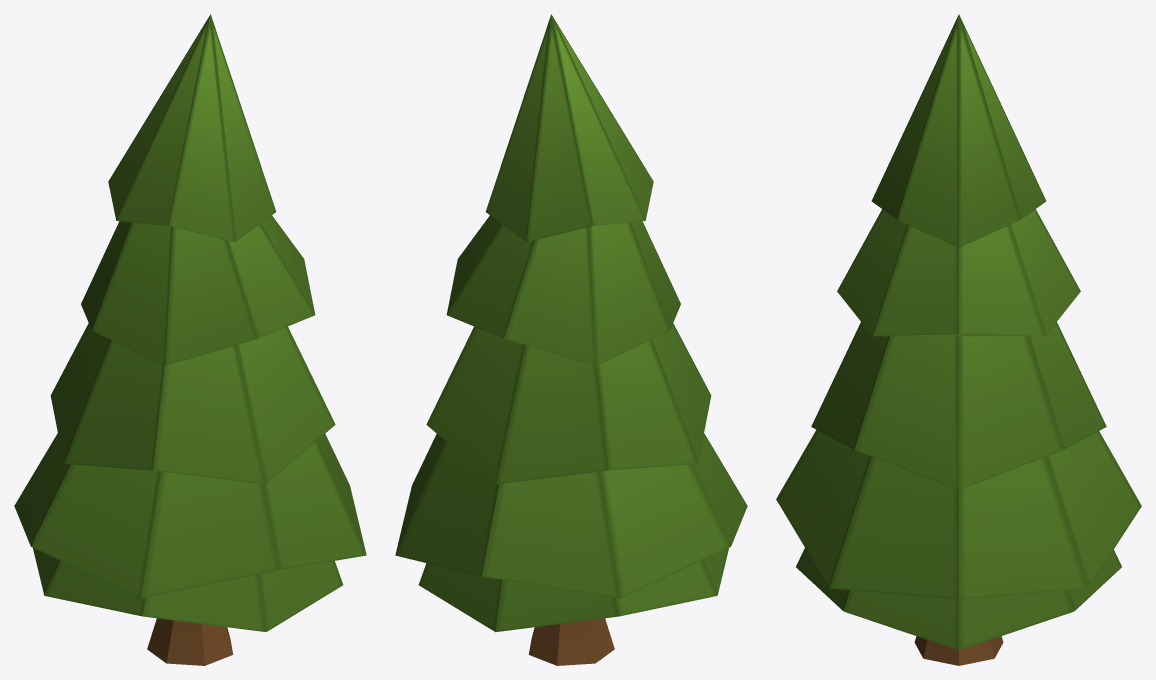
File: tree_2.obj
3 renders of one model, left to right at view 1: azimuth 30°, elevation 25°; view 2: azimuth 150°, elevation 25°; view 3: azimuth 270°, elevation 25°, orthographic. The views are drawn at different scales.
Visible parts, largest first — view 1: Tree_2_tree_trunk; view 2: Tree_2_tree_trunk; view 3: Tree_2_tree_trunk.
Boxes of the visible parts, bbox=[...] form: Tree_2_tree_trunk: bbox=[14, 14, 366, 665]; Tree_2_tree_trunk: bbox=[395, 14, 747, 665]; Tree_2_tree_trunk: bbox=[776, 14, 1141, 665].
Bounding box in the file's own units: 232 × 438 × 226.
1 material, 1 textured.
